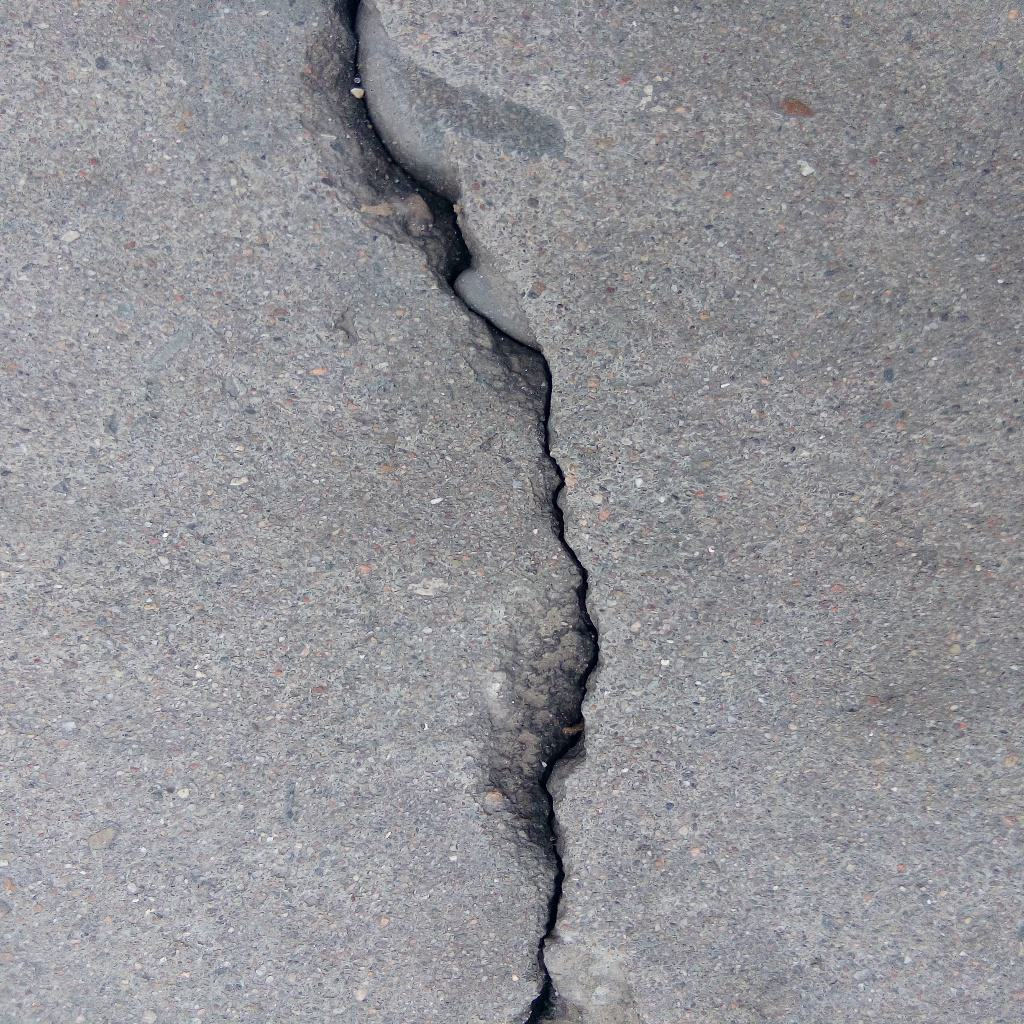Crack: (337, 1, 601, 1024)
